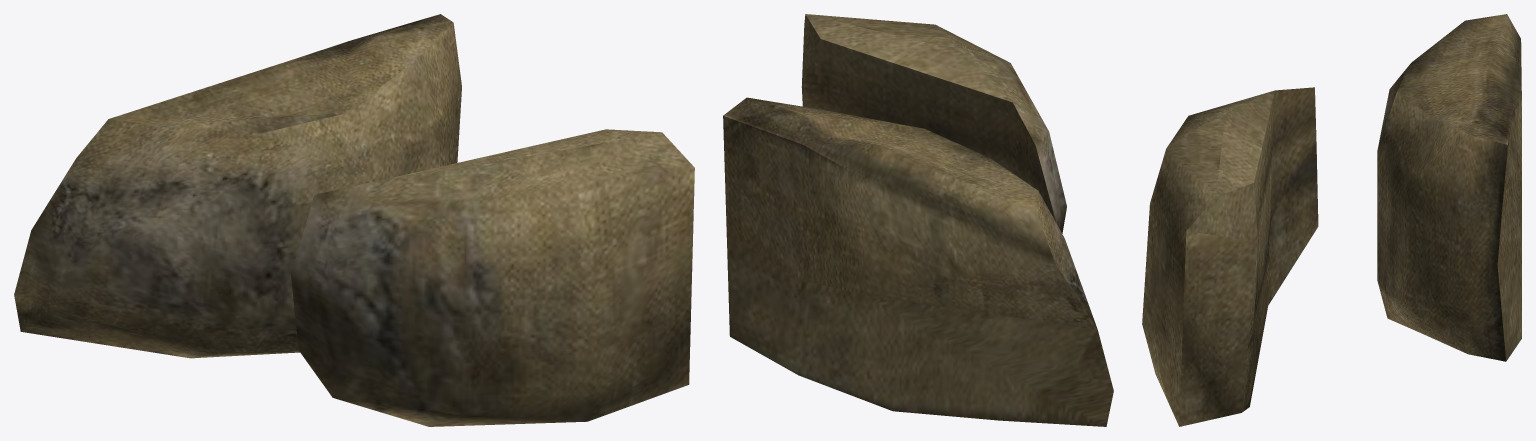
Rendered from military_sandbag_desert_exploded_right.glb.
The picture shows the model from 3 angles, left to right: view 1: azimuth 30°, elevation 25°; view 2: azimuth 150°, elevation 25°; view 3: azimuth 270°, elevation 25°; orthographic projection. The views are drawn at different scales.
Bounding box in the file's own units: 31.18 × 16.75 × 21.52.
1 material, 1 textured.
